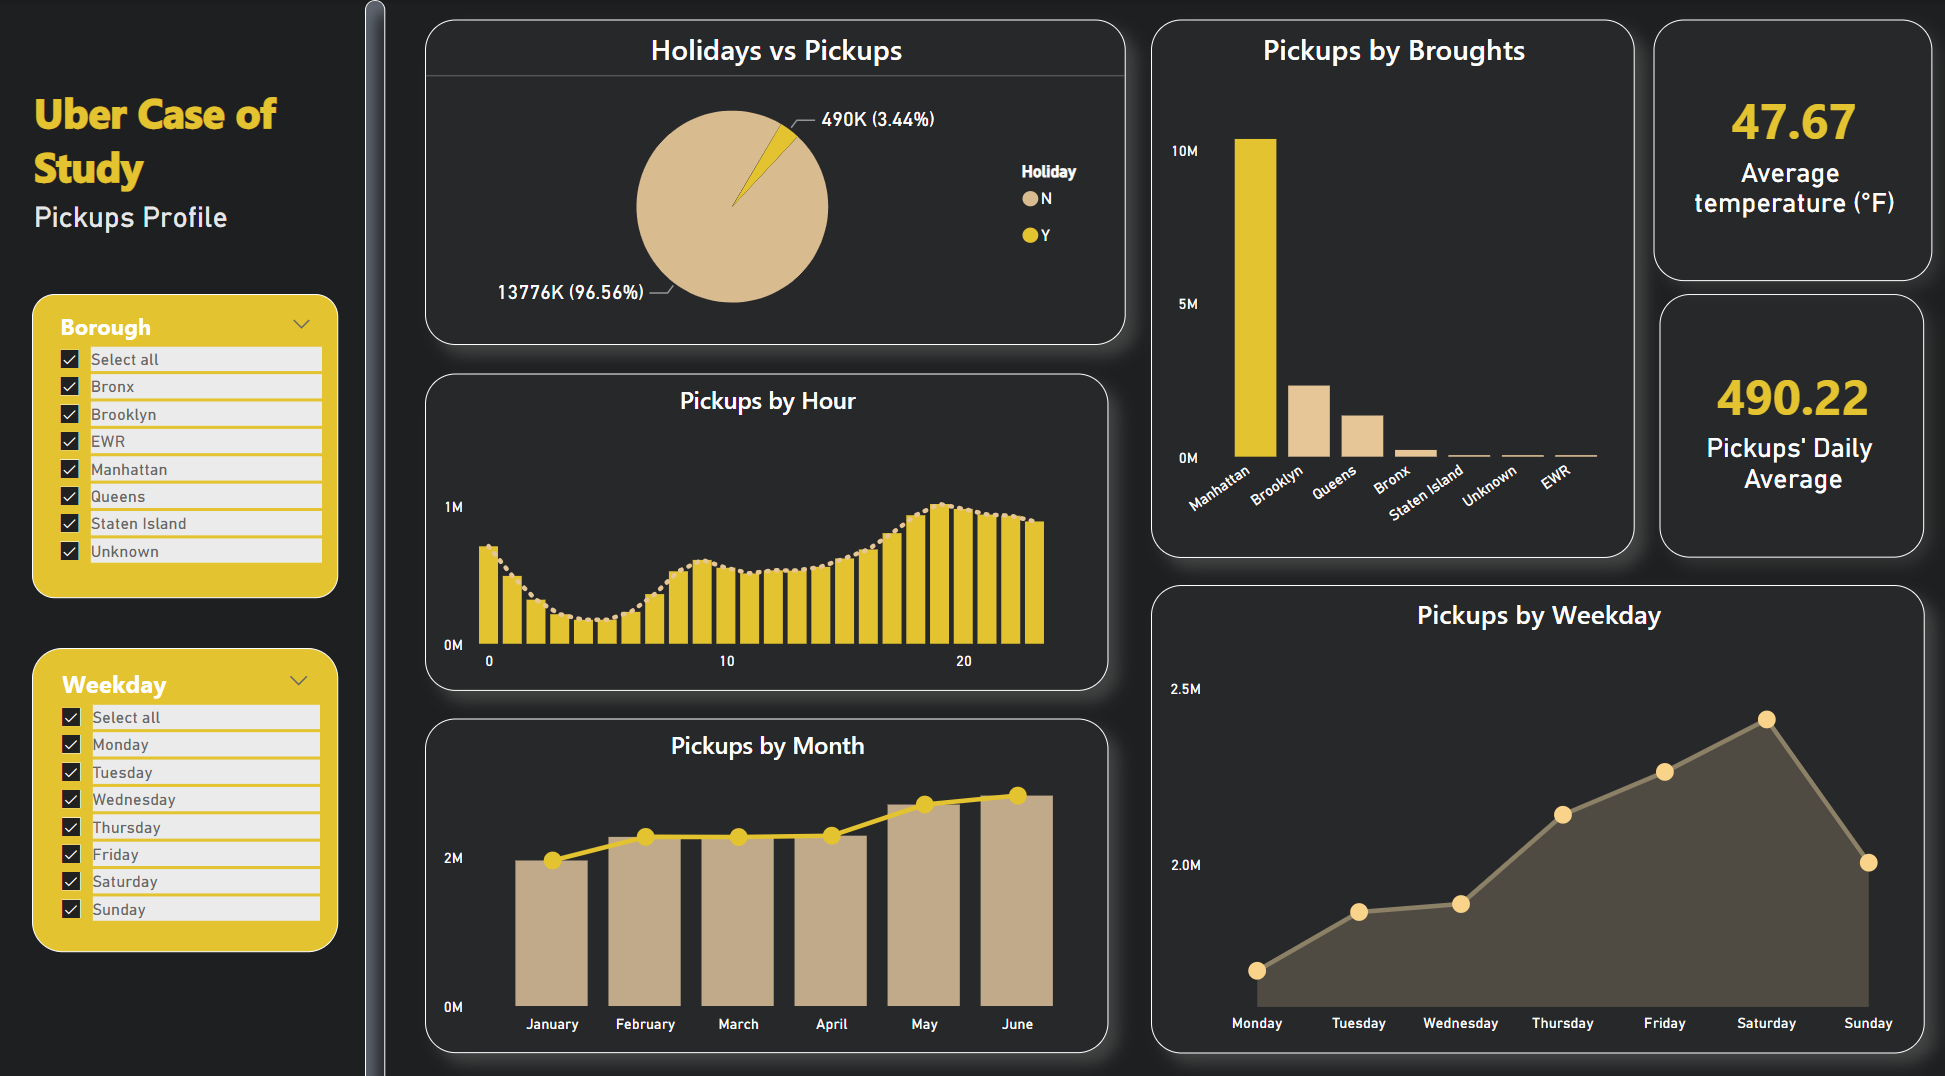

What the dashboard file says about the page in this screenshot:
{"tool":"powerbi","page":{"name":"Dashboard Uber","canvas":[1280,720],"ordinal":0},"visuals":[{"type":"textbox","title":"Uber Case of Study","box":[2.5,45.8,237.9,129.8],"z":0},{"type":"slicer","fields":{"Values":["csv_uber.borough"]},"box":[21.6,193.4,201,199.8],"z":1000},{"type":"slicer","fields":{"Values":["csv_uber.week_day"]},"box":[21.6,426.2,201,199.8],"z":2000},{"type":"shape","box":[240.5,0,12.7,720.2],"z":3000},{"type":"lineStackedColumnComboChart","title":"Pickups by Broughts","fields":{"Category":["csv_uber.borough"],"Y":["Sum(csv_uber.pickups)"]},"box":[757.1,12.7,318.1,353.7],"z":4000},{"type":"areaChart","title":"Pickups by Weekday","fields":{"Category":["csv_uber.week_day"],"Y":["Sum(csv_uber.pickups)"]},"box":[757.1,384.3,508.9,307.9],"z":5000},{"type":"card","title":"Bikes related purchases","fields":{"Values":["Avg(csv_uber.pickups)"]},"box":[1091.7,193.4,174.3,173],"z":6000},{"type":"lineStackedColumnComboChart","title":"Pickups by Hour","fields":{"Category":["csv_uber.start_hour"],"Y":["Sum(csv_uber.pickups)"],"Y2":["Sum(csv_uber.pickups)"]},"box":[279.9,245.6,449.1,208.7],"z":7000},{"type":"card","title":"Bikes related purchases","fields":{"Values":["Avg(csv_uber.temp)"]},"box":[1087.9,12.7,183.2,171.8],"z":8000},{"type":"pieChart","title":"Holidays vs Pickups","fields":{"Category":["csv_uber.hday"],"Y":["Sum(csv_uber.pickups)"]},"box":[279.9,12.7,460.6,213.8],"z":9000},{"type":"lineClusteredColumnComboChart","title":"Pickups by Month","fields":{"Category":["csv_uber2.start_month"],"Y":["Sum(csv_uber2.pickups)"],"Y2":["Sum(csv_uber2.pickups)"]},"box":[279.9,472,449.1,220.1],"z":10000}]}

Visuals, with their boxes in screenshot pixels (x1, y1, x2, y2), scaled from the page's 1280x720 canvas onto the 1945x1076 screenshot:
"Uber Case of Study" textbox: rect(4, 68, 365, 262)
slicer - csv_uber.borough: rect(33, 289, 338, 588)
slicer - csv_uber.week_day: rect(33, 637, 338, 936)
shape: rect(365, 0, 385, 1075)
"Pickups by Broughts" lineStackedColumnComboChart: rect(1150, 19, 1634, 548)
"Pickups by Weekday" areaChart: rect(1150, 574, 1924, 1034)
"Bikes related purchases" card: rect(1659, 289, 1924, 548)
"Pickups by Hour" lineStackedColumnComboChart: rect(425, 367, 1108, 679)
"Bikes related purchases" card: rect(1653, 19, 1931, 276)
"Holidays vs Pickups" pieChart: rect(425, 19, 1125, 338)
"Pickups by Month" lineClusteredColumnComboChart: rect(425, 705, 1108, 1034)
